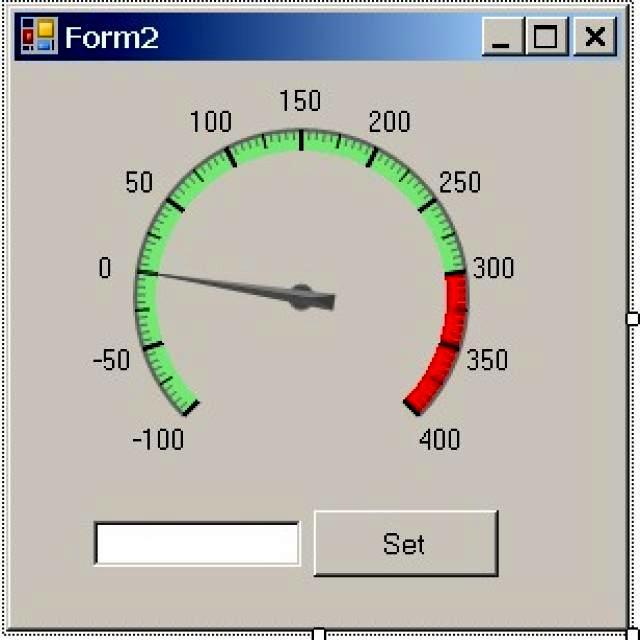Needle_Tip: (105, 246, 237, 303)
Needle_base: (275, 267, 345, 332)
max_value: (418, 410, 471, 471)
min_value: (118, 394, 205, 471)
